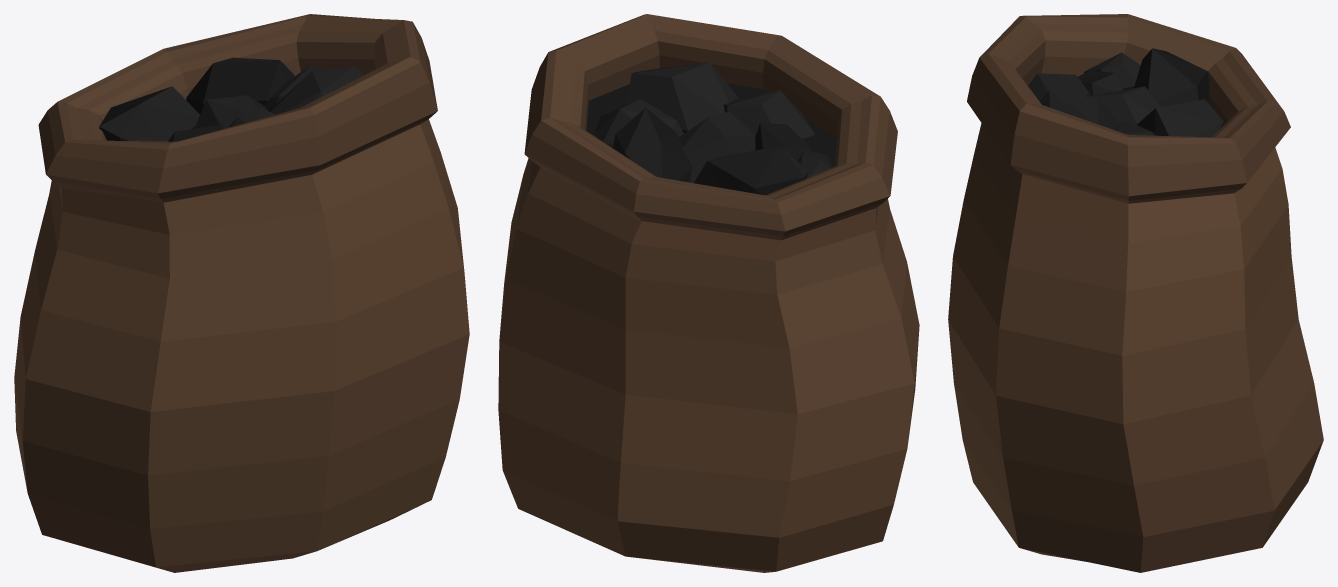
File: PROP_CoalBag.fbx
3 renders of one model, left to right at view 1: azimuth 30°, elevation 25°; view 2: azimuth 150°, elevation 25°; view 3: azimuth 270°, elevation 25°, orthographic. The views are drawn at different scales.
Parts seen in each view (by area): view 1: CoalBag; view 2: CoalBag; view 3: CoalBag.
Boxes of the visible parts, x1,y1,x2,y2 form: CoalBag: (14,14,469,572); CoalBag: (498,14,919,572); CoalBag: (948,14,1323,572).
Bounding box in the file's own units: 0.7923 × 0.826 × 0.5997.
